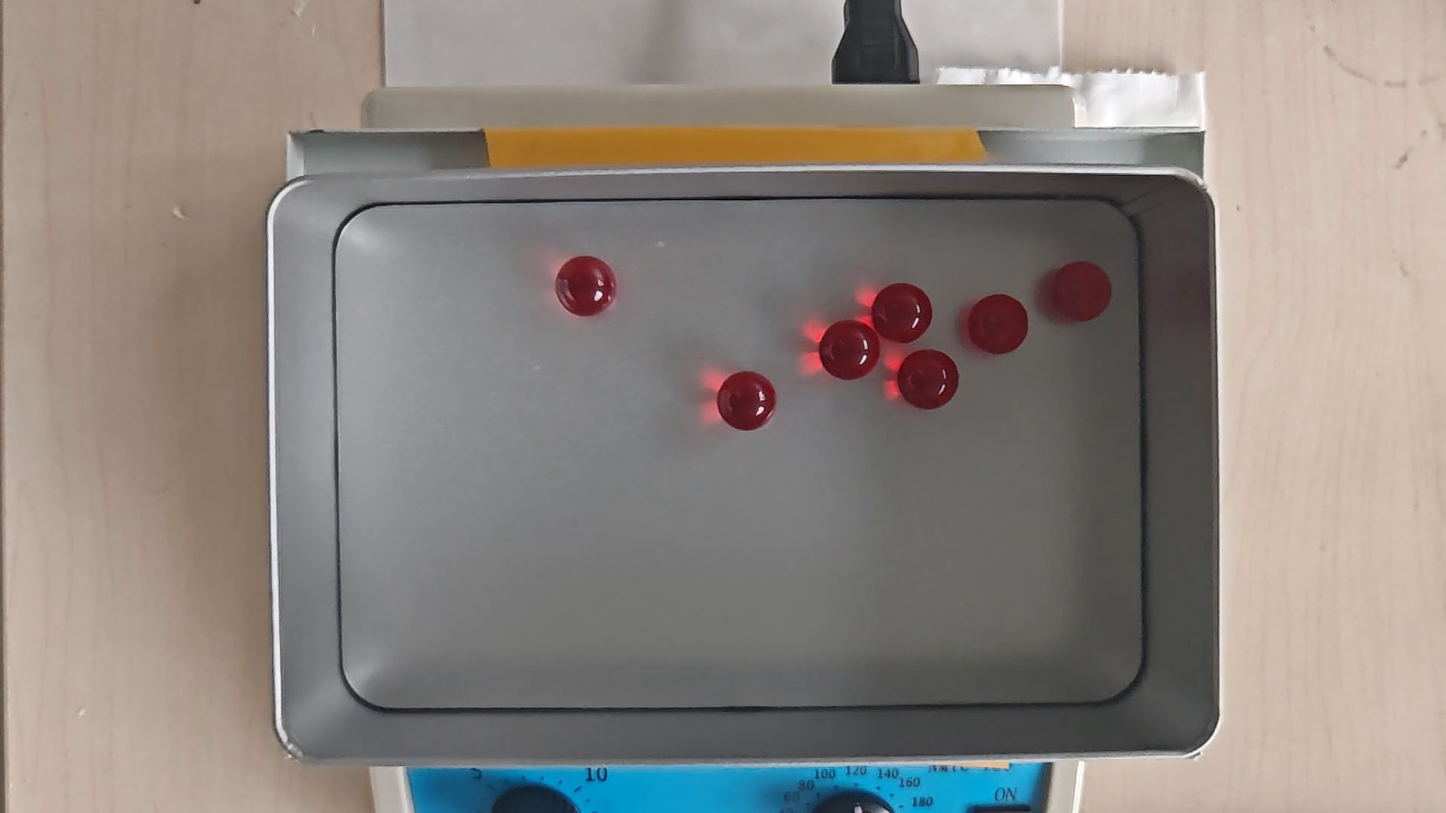ball: (555, 254, 618, 318), (819, 318, 881, 383), (1049, 262, 1114, 324), (871, 284, 934, 346), (898, 349, 959, 412), (968, 292, 1029, 355), (715, 370, 777, 431)
container: (333, 202, 1142, 711)
